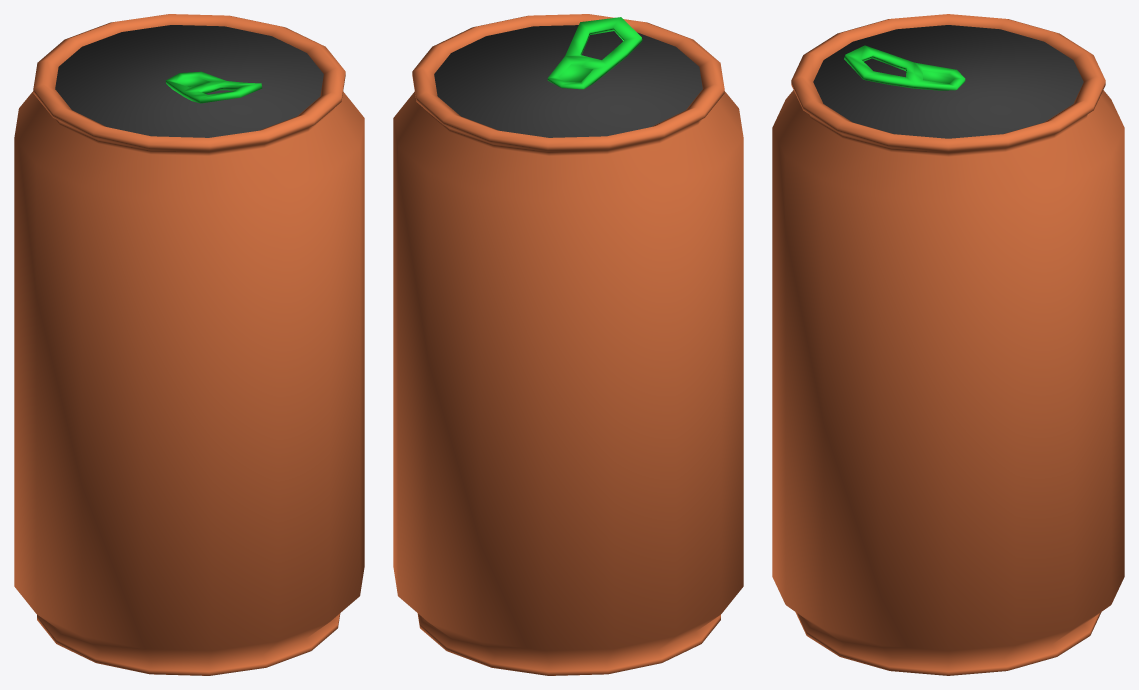
The model's file is Can.fbx.
3 views of the same model, side by side, from view 1: azimuth 30°, elevation 25°; view 2: azimuth 150°, elevation 25°; view 3: azimuth 270°, elevation 25° (orthographic).
Parts seen in each view (by area): view 1: Cylinder, Cylinder.001, Plane; view 2: Cylinder, Cylinder.001, Plane; view 3: Cylinder, Cylinder.001, Plane.
Part boxes in pixels (box(x1,y1,x2,y2)): Cylinder: box(14, 14, 364, 675); Cylinder.001: box(55, 25, 323, 137); Plane: box(165, 71, 262, 103); Cylinder: box(393, 14, 743, 675); Cylinder.001: box(434, 25, 702, 137); Plane: box(547, 17, 642, 89); Cylinder: box(772, 14, 1124, 675); Cylinder.001: box(813, 25, 1083, 138); Plane: box(844, 45, 965, 90).
Size of the model in its own units: 10 by 17.55 by 10.
